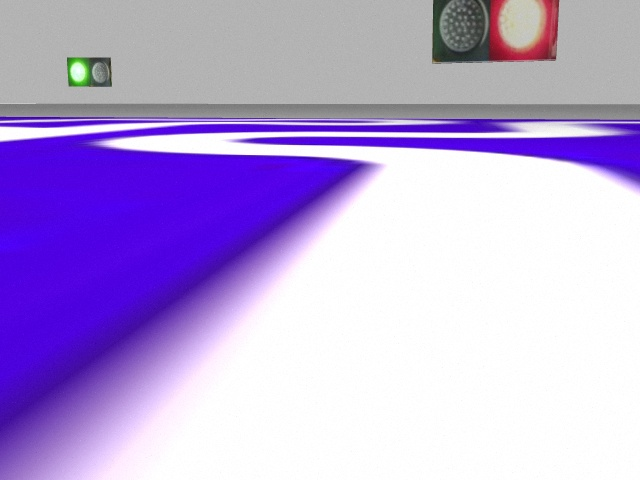red: (491, 1, 557, 62)
